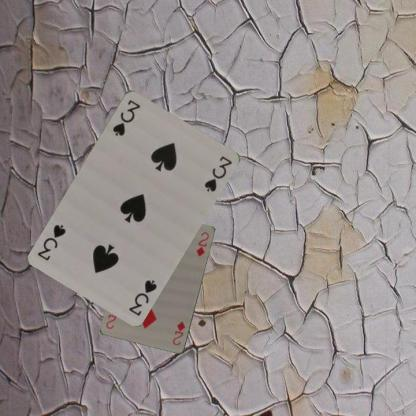2d: (170, 319, 186, 347)
3s: (126, 277, 158, 317), (110, 96, 141, 137)
